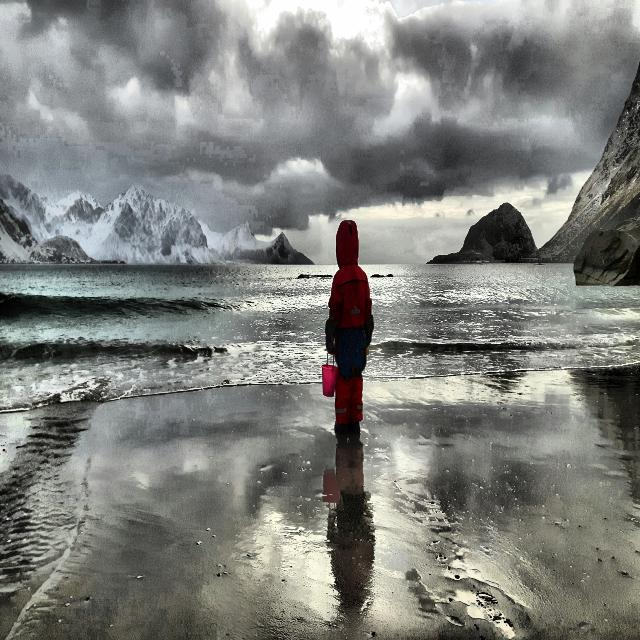Human: (301, 203, 428, 494)
